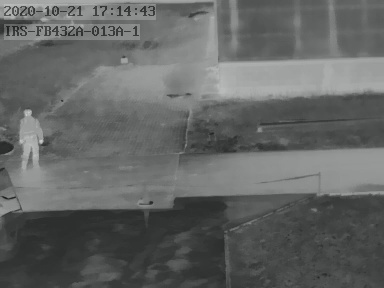person: (18, 106, 45, 168)
